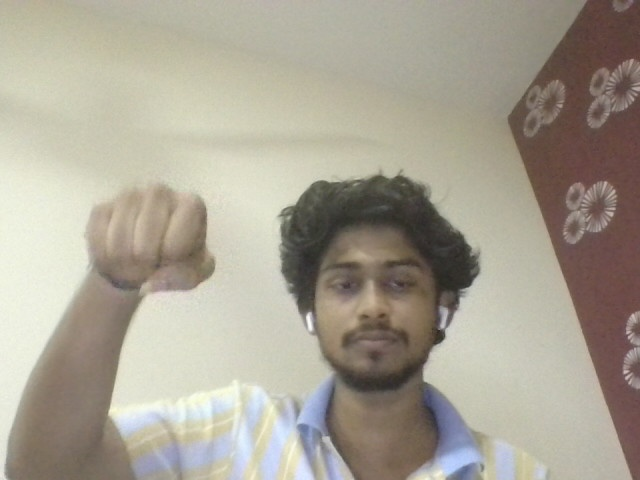yes: (83, 177, 224, 302)
